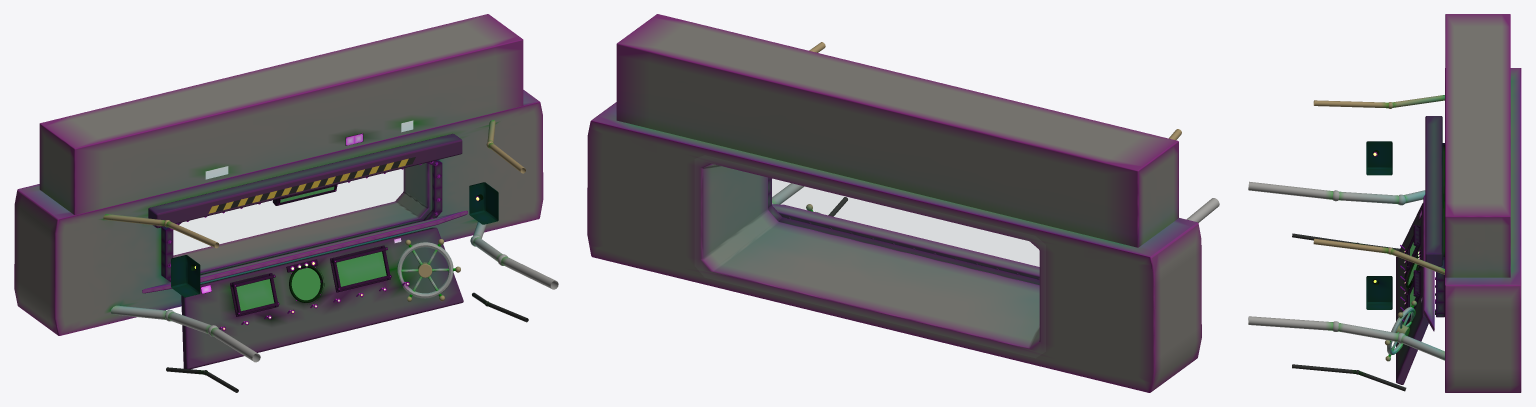
The model's file is emplacement.glb.
The picture shows the model from 3 angles, left to right: view 1: azimuth 30°, elevation 25°; view 2: azimuth 150°, elevation 25°; view 3: azimuth 270°, elevation 25°; orthographic projection. The views are drawn at different scales.
Visible parts, largest first — view 1: static.concrete, static.paint, glass.slit, grid.static.paint_dark, static.steel, grid.anim.helm, static.brass, static.screen.weapons, static.screen.hull, static.hazard, static.hazard_black, static.screen.radar (+2 smaller); view 2: static.concrete, glass.slit, static.paint, static.steel; view 3: static.concrete, static.paint, static.steel, grid.static.paint_dark, static.brass, static.rubber, grid.anim.helm.
Boxes of the visible parts, box(x1,y1,x2,y2) form: static.concrete: box(14, 14, 543, 335); static.paint: box(148, 133, 463, 369); glass.slit: box(174, 169, 402, 254); grid.static.paint_dark: box(171, 133, 498, 327); static.steel: box(110, 134, 558, 362); grid.anim.helm: box(397, 239, 460, 301); static.brass: box(103, 120, 525, 248); static.screen.weapons: box(336, 251, 386, 286); static.screen.hull: box(236, 279, 274, 311); static.hazard: box(208, 158, 408, 213); static.hazard_black: box(216, 157, 415, 211); static.screen.radar: box(291, 268, 320, 300); static.concrete: box(587, 14, 1201, 392); glass.slit: box(695, 156, 1045, 357); static.paint: box(768, 177, 1039, 284); static.steel: box(772, 183, 1219, 279); static.concrete: box(1423, 14, 1521, 392); static.paint: box(1396, 116, 1444, 384); static.steel: box(1248, 151, 1444, 360); grid.static.paint_dark: box(1366, 141, 1444, 321); static.brass: box(1313, 95, 1444, 274); static.rubber: box(1292, 233, 1406, 391); grid.anim.helm: box(1385, 300, 1416, 361).
Size of the model in its own units: 2.39 by 1.05 by 1.26.
